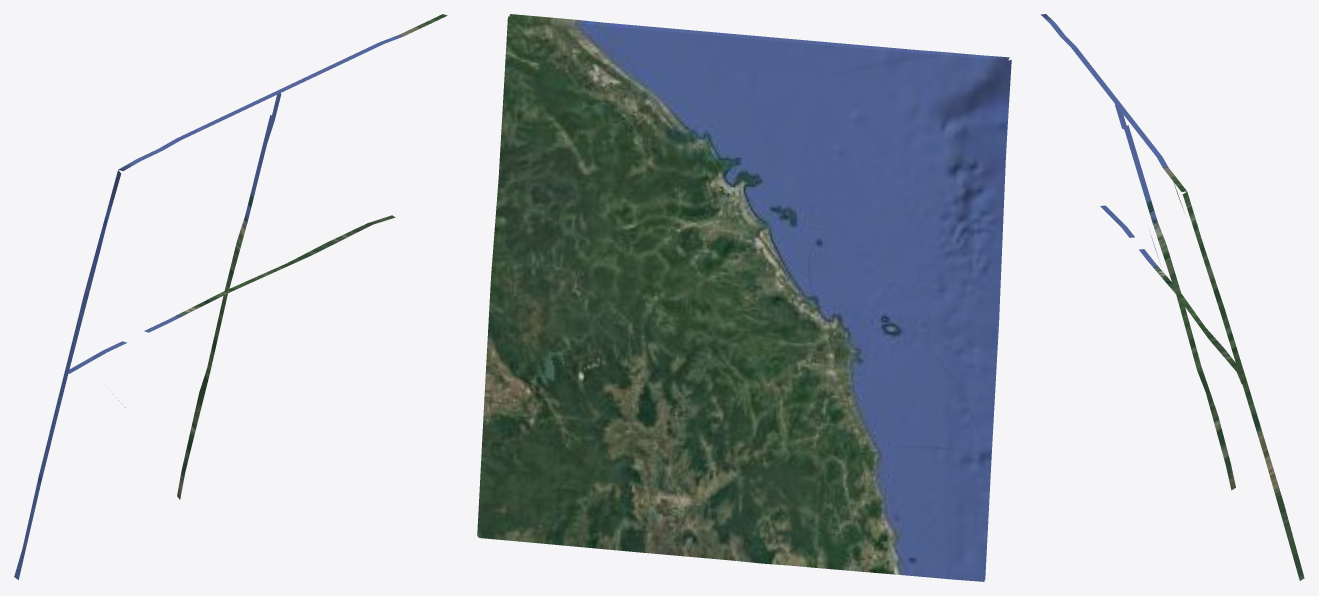
The picture shows the model from 3 angles, left to right: view 1: azimuth 30°, elevation 25°; view 2: azimuth 150°, elevation 25°; view 3: azimuth 270°, elevation 25°; orthographic projection. The views are drawn at different scales.
Size of the model in its own units: 316609 by 304183 by 179163.
1 material, 1 textured.
